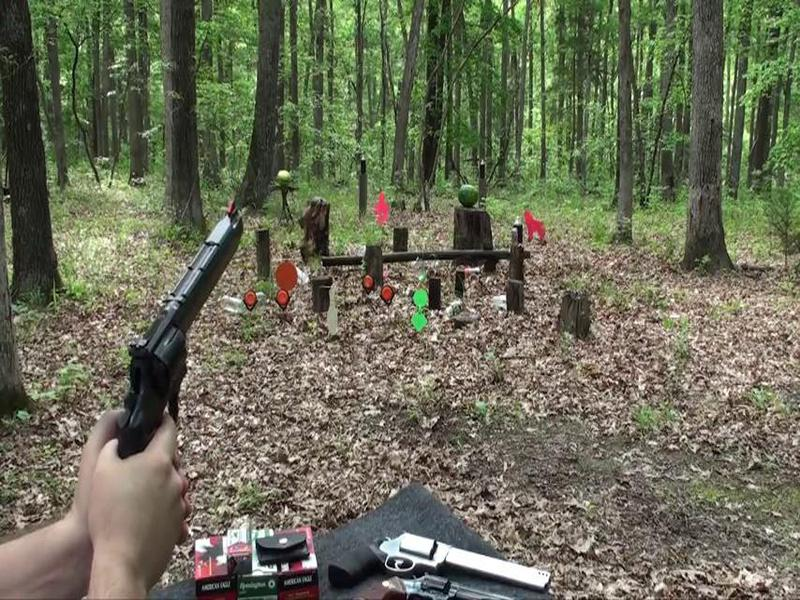Revolver: (114, 205, 250, 477)
